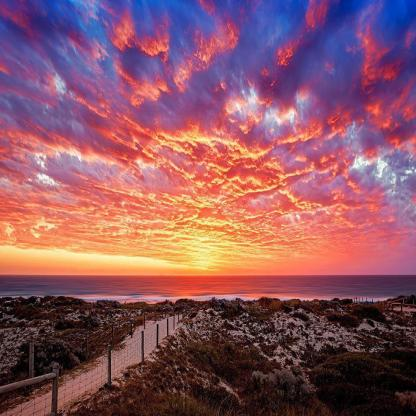other: (65, 71, 361, 187), (146, 191, 252, 271)
